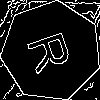R: (26, 26, 81, 76)
